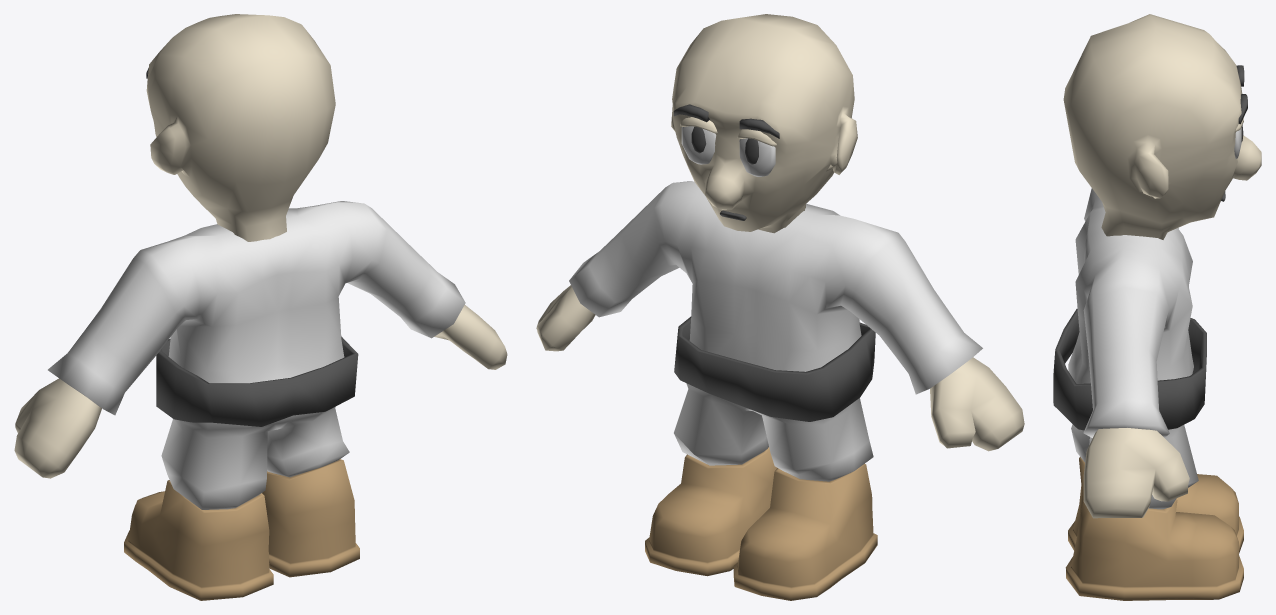
Rendered from civil.fbx.
The picture shows the model from 3 angles, left to right: view 1: azimuth 30°, elevation 25°; view 2: azimuth 150°, elevation 25°; view 3: azimuth 270°, elevation 25°; orthographic projection.
Visible parts, largest first — view 1: US_Soldier_Body_Brown; view 2: US_Soldier_Body_Brown; view 3: US_Soldier_Body_Brown.
Boxes of the visible parts, x1,y1,x2,y2 form: US_Soldier_Body_Brown: (14, 14, 507, 600); US_Soldier_Body_Brown: (536, 14, 1024, 600); US_Soldier_Body_Brown: (1053, 14, 1261, 600).
Bounding box in the file's own units: 49.18 × 52.92 × 18.72.
